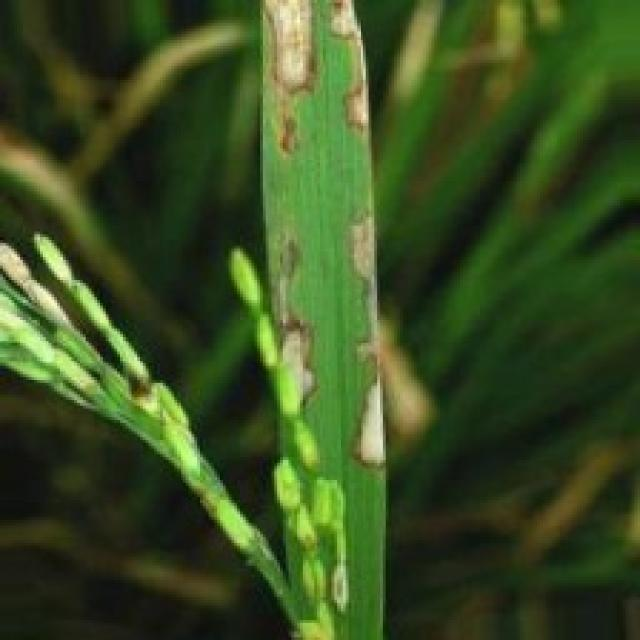Bacterial_Blight: (274, 226, 322, 427), (338, 193, 391, 369), (330, 0, 383, 140), (261, 0, 321, 114), (344, 376, 395, 493)
